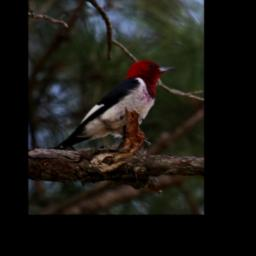Woodpecker: (47, 58, 179, 150)
